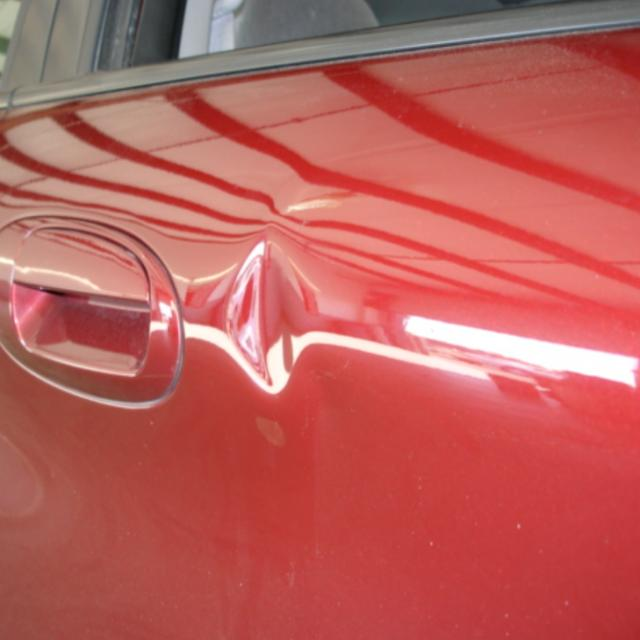dents: (218, 221, 346, 417)
